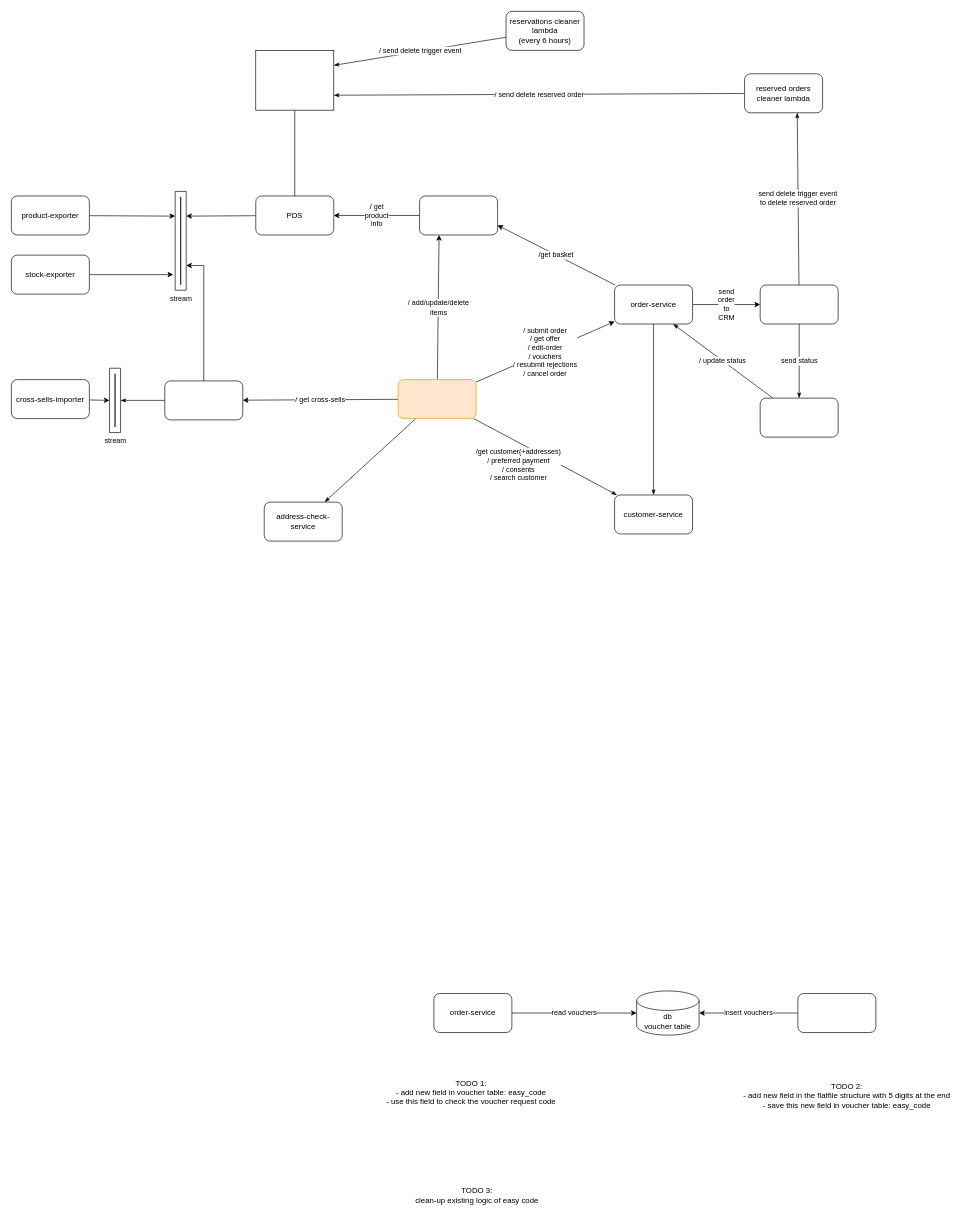
The diagram is 965 pixels wide and 1217 high, and some of its shapes have lost their labels. The shapes that lost their labels are listed below. From the top down, each one's centre as x and y in pixels, then its label:
pixel 294 80: stock-reservation.kt
pixel 458 215: Basket-service
pixel 799 304: CRM-DE-EXPORTER
pixel 203 400: feed-service
pixel 436 399: WILIS-VIEW
pixel 799 417: update LL order status lambda
pixel 836 1013: crm-de-importer
